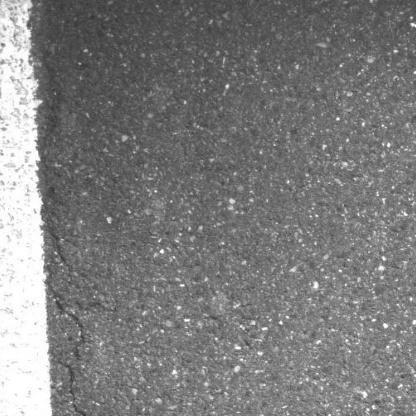Cracks: (44, 282, 92, 360), (55, 359, 101, 416), (37, 97, 63, 172), (44, 220, 77, 276)
